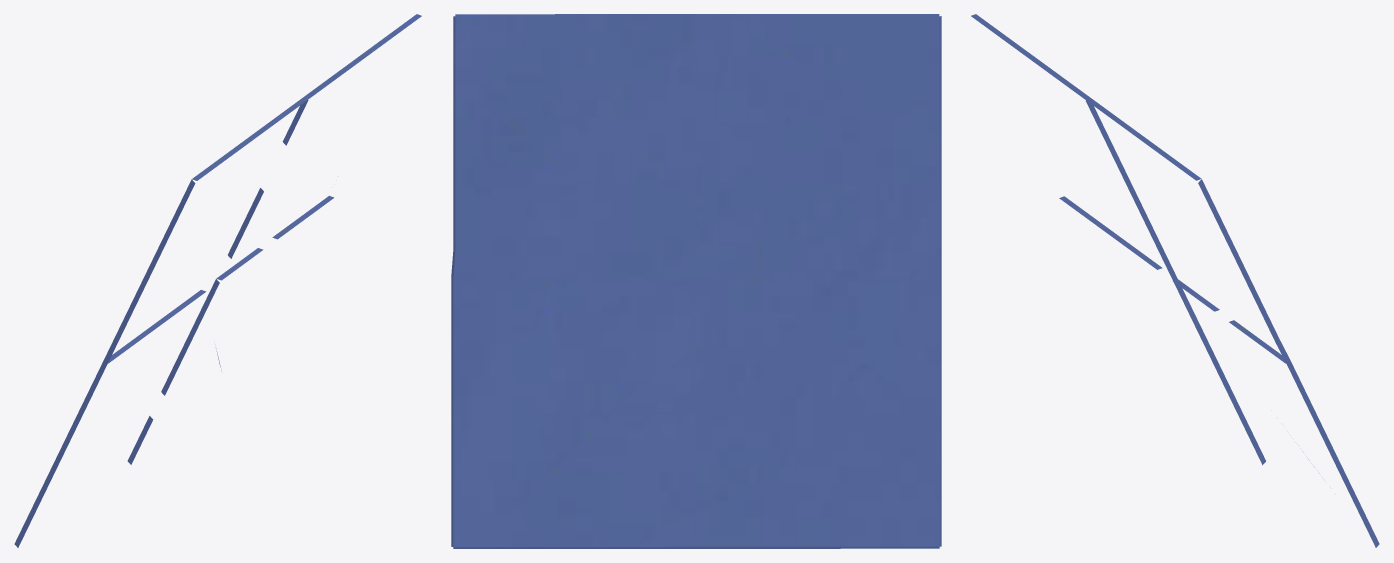
3 views of the same model, side by side, from view 1: azimuth 30°, elevation 25°; view 2: azimuth 150°, elevation 25°; view 3: azimuth 270°, elevation 25° (orthographic). The views are drawn at different scales.
Size of the model in its own units: 39416 by 36016 by 32470.
1 material, 1 textured.
